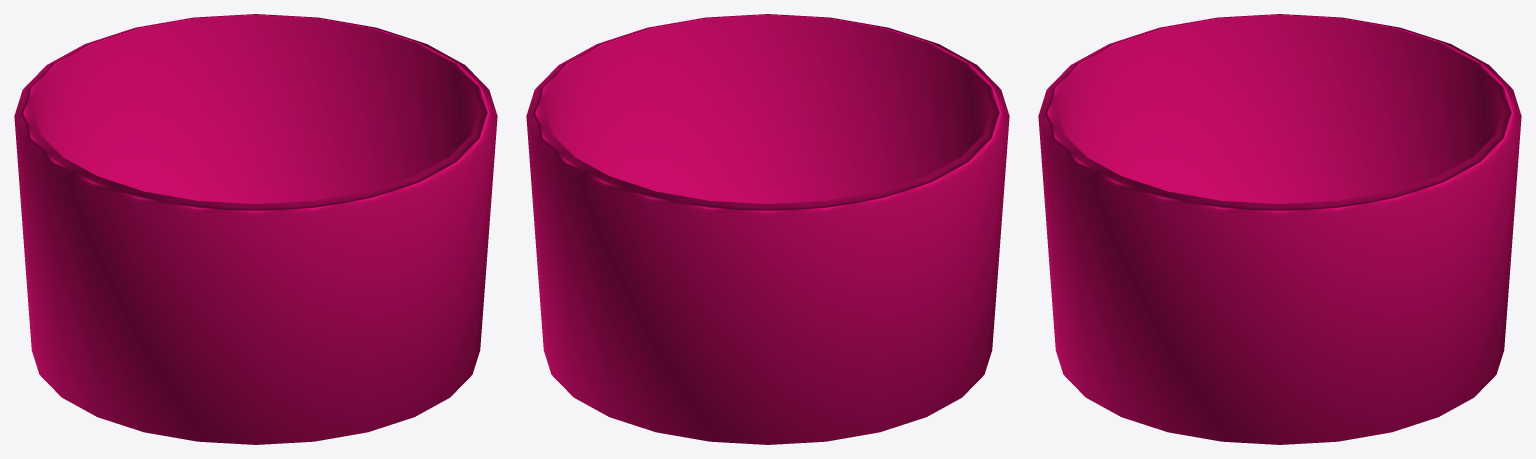
File: Brasero_02_Pan_Lod1.fbx
3 renders of one model, left to right at view 1: azimuth 30°, elevation 25°; view 2: azimuth 150°, elevation 25°; view 3: azimuth 270°, elevation 25°, orthographic.
Visible parts, largest first — view 1: Brasero_02_Pan_Lod1; view 2: Brasero_02_Pan_Lod1; view 3: Brasero_02_Pan_Lod1.
Part boxes in pixels (<box>): Brasero_02_Pan_Lod1: <box>14,14,497,444</box>; Brasero_02_Pan_Lod1: <box>526,14,1009,444</box>; Brasero_02_Pan_Lod1: <box>1038,14,1521,444</box>.
Bounding box in the file's own units: 29.53 × 16.41 × 29.53.
